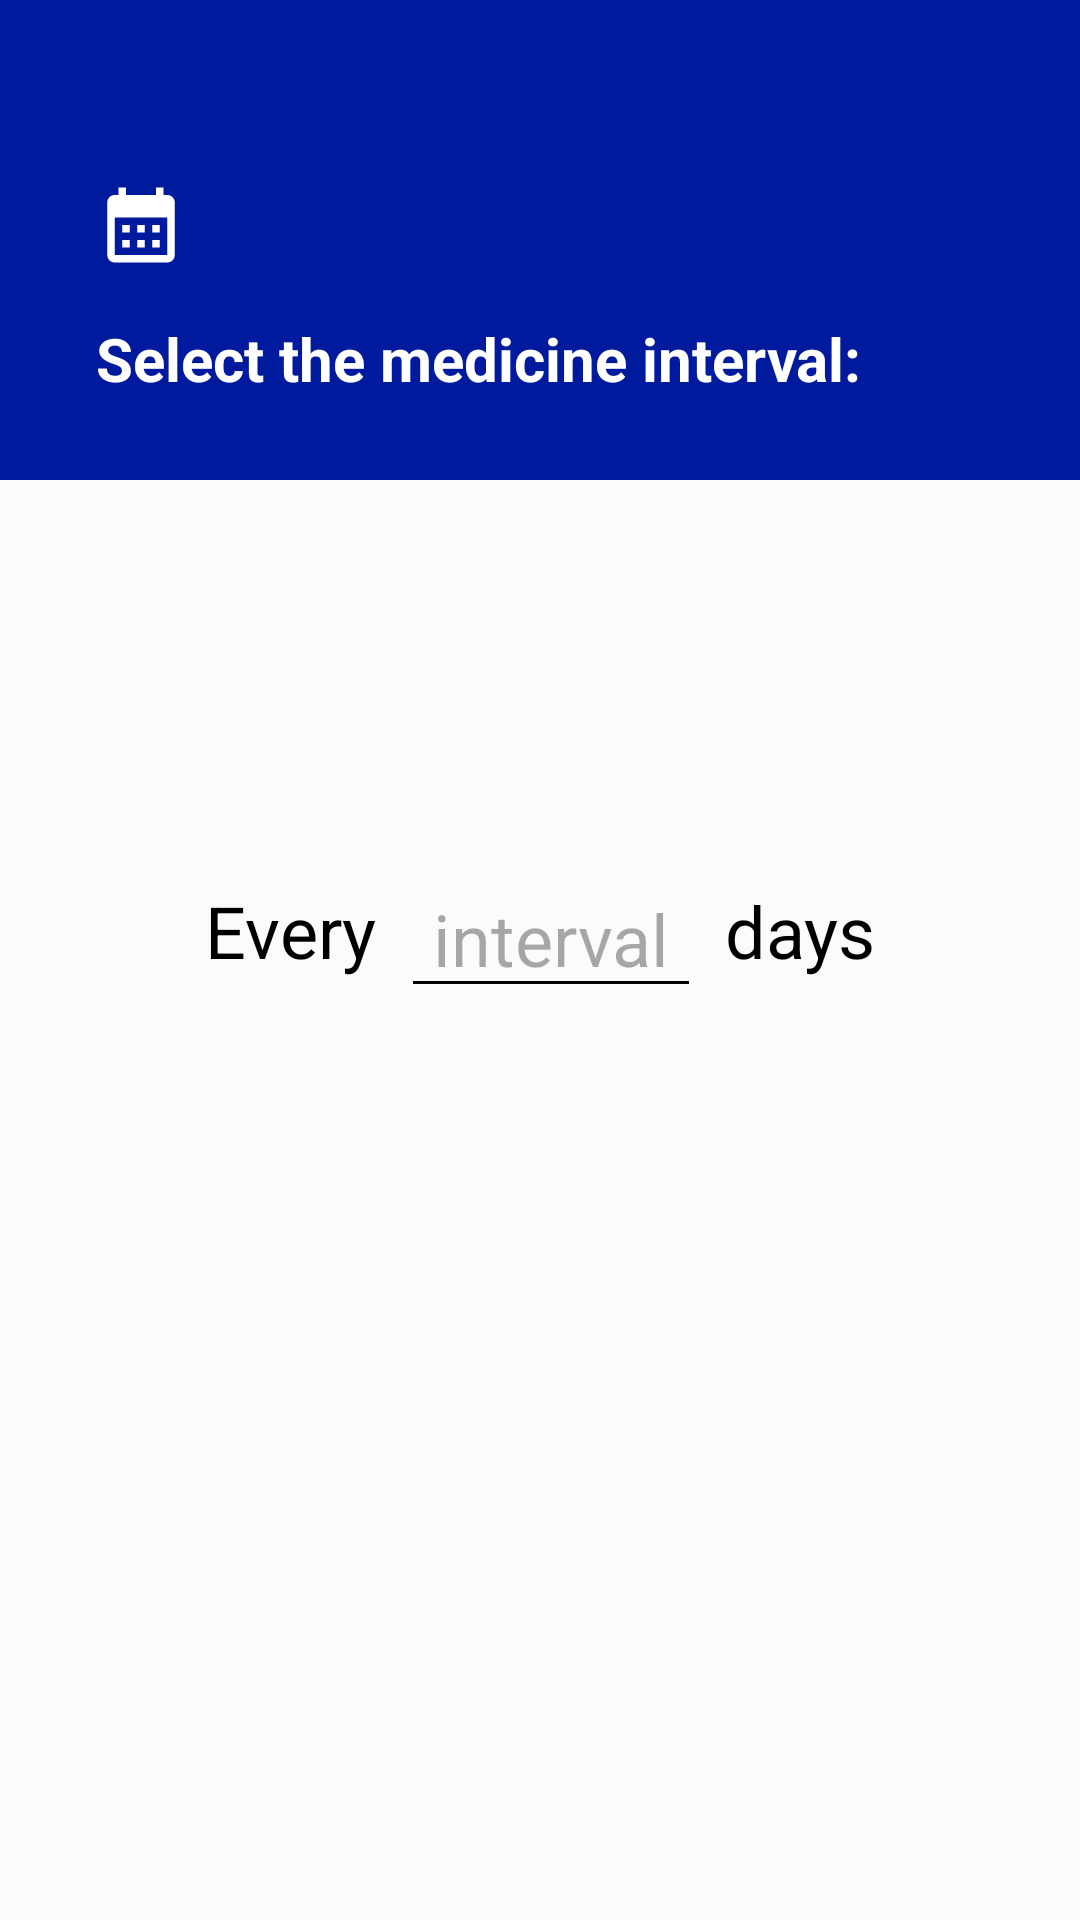

Icon click points for this 1080px x 1920px phone screenshot, format [x,y]:
calendar month: [141,225]
